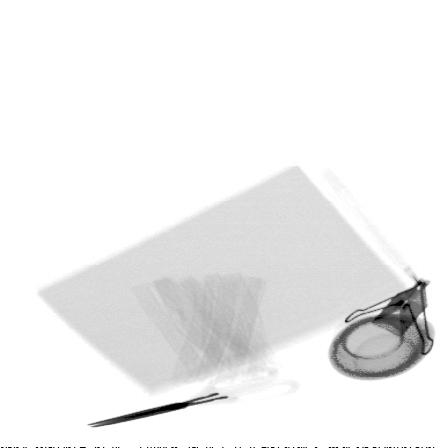Scissors: (86, 370, 271, 429)
